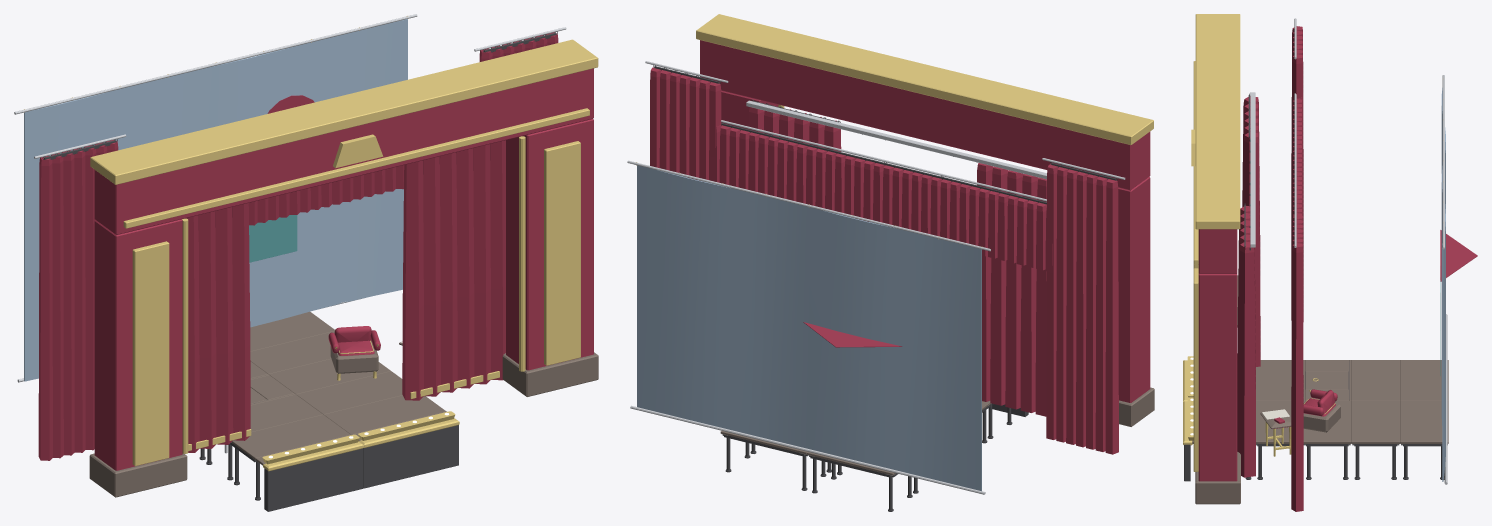
File: cabaret-stage-light.glb
The picture shows the model from 3 angles, left to right: view 1: azimuth 30°, elevation 25°; view 2: azimuth 150°, elevation 25°; view 3: azimuth 270°, elevation 25°; orthographic projection. The views are drawn at different scales.
Parts seen in each view (by area): view 1: 036-proscenium-arch-frame0, 036-proscenium-arch-frame1, 046-backdrop-cloth-on-batten0, 039-house-tabs-on-track-opentab-right, 040-stage-leg-drape0, 039-house-tabs-on-track-opentab-left, 036-proscenium-arch-frame2, 032-apron-edge-with-footlight-strip0, 033-apron-edge-with-footlight-strip0, 042-stage-border-drape0, 014-stage-deck-module0, 019-stage-deck-module0 (+13 smaller); view 2: 046-backdrop-cloth-on-batten0, 036-proscenium-arch-frame0, 042-stage-border-drape0, 040-stage-leg-drape0, 036-proscenium-arch-frame1, 039-house-tabs-on-track-opentab-left, 041-stage-leg-drape0, 046-backdrop-cloth-on-batten3, 039-house-tabs-on-track-open0, 039-house-tabs-on-track-opentab-right, 042-stage-border-drape2, 042-stage-border-drape1 (+4 smaller); view 3: 036-proscenium-arch-frame1, 036-proscenium-arch-frame0, 039-house-tabs-on-track-opentab-right, 041-stage-leg-drape0, 039-house-tabs-on-track-opentab-left, 016-stage-deck-module0, 011-stage-deck-module0, 015-stage-deck-module0, 010-stage-deck-module0, 042-stage-border-drape0, 046-backdrop-cloth-on-batten0, 013-stage-deck-module0 (+18 smaller).
Part boxes in pixels (<box>): 036-proscenium-arch-frame0: <box>94,68,593,470</box>; 036-proscenium-arch-frame1: <box>90,39,598,466</box>; 046-backdrop-cloth-on-batten0: <box>24,19,407,381</box>; 039-house-tabs-on-track-opentab-right: <box>402,140,505,400</box>; 040-stage-leg-drape0: <box>38,140,118,460</box>; 039-house-tabs-on-track-opentab-left: <box>185,203,250,452</box>; 036-proscenium-arch-frame2: <box>89,352,598,497</box>; 032-apron-edge-with-footlight-strip0: <box>264,448,363,511</box>; 033-apron-edge-with-footlight-strip0: <box>363,425,458,488</box>; 042-stage-border-drape0: <box>248,165,404,225</box>; 014-stage-deck-module0: <box>231,414,350,459</box>; 019-stage-deck-module0: <box>324,395,446,434</box>; 046-backdrop-cloth-on-batten0: <box>637,165,981,491</box>; 036-proscenium-arch-frame0: <box>700,40,1150,402</box>; 042-stage-border-drape0: <box>710,125,1052,272</box>; 040-stage-leg-drape0: <box>1046,164,1118,454</box>; 036-proscenium-arch-frame1: <box>696,14,1153,144</box>; 039-house-tabs-on-track-opentab-left: <box>977,163,1046,416</box>; 041-stage-leg-drape0: <box>650,67,721,180</box>; 046-backdrop-cloth-on-batten3: <box>627,160,990,494</box>; 039-house-tabs-on-track-open0: <box>746,100,1046,179</box>; 039-house-tabs-on-track-opentab-right: <box>748,102,841,151</box>; 042-stage-border-drape2: <box>721,120,1046,201</box>; 042-stage-border-drape1: <box>721,123,1046,204</box>; 036-proscenium-arch-frame1: <box>1191,14,1240,471</box>; 036-proscenium-arch-frame0: <box>1198,229,1237,481</box>; 039-house-tabs-on-track-opentab-right: <box>1237,206,1255,477</box>; 041-stage-leg-drape0: <box>1291,215,1303,511</box>; 039-house-tabs-on-track-opentab-left: <box>1242,96,1260,366</box>; 016-stage-deck-module0: <box>1351,401,1399,443</box>; 011-stage-deck-module0: <box>1351,360,1399,400</box>; 015-stage-deck-module0: <box>1400,401,1448,443</box>; 010-stage-deck-module0: <box>1400,360,1448,400</box>; 042-stage-border-drape0: <box>1291,97,1303,318</box>; 046-backdrop-cloth-on-batten0: <box>1441,88,1445,481</box>; 013-stage-deck-module0: <box>1256,360,1291,400</box>.
Bounding box in the file's own units: 11.1 × 7.34 × 6.07.
